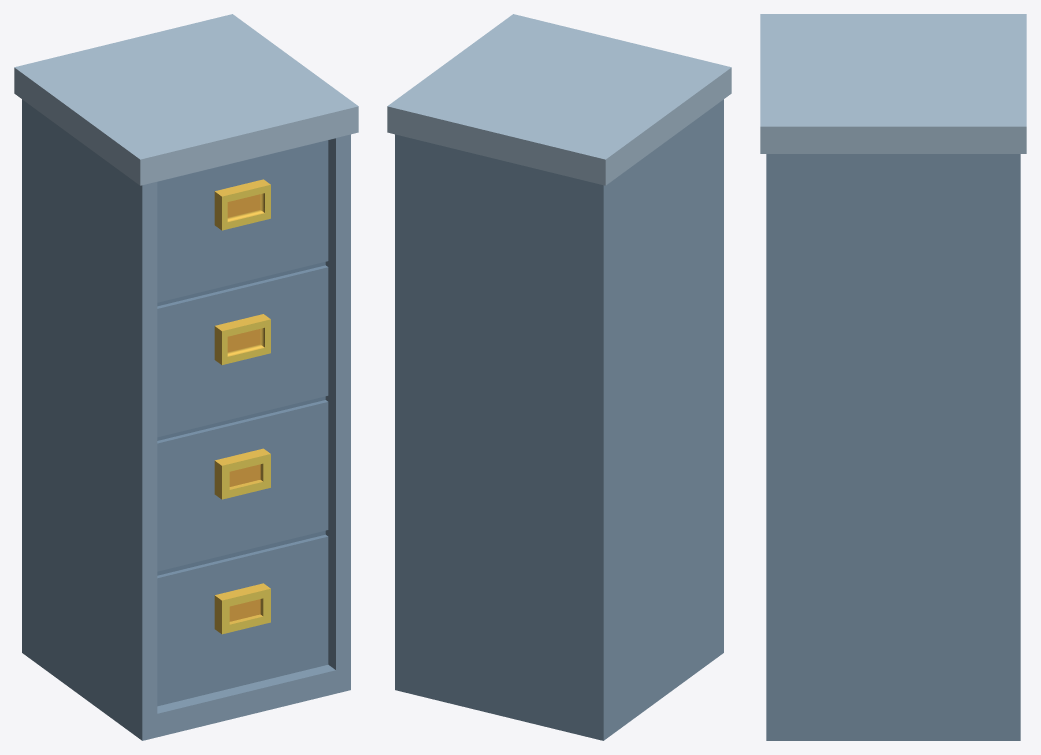
The model's file is drawer_furniture1.fbx.
3 views of the same model, side by side, from view 1: azimuth 30°, elevation 25°; view 2: azimuth 150°, elevation 25°; view 3: azimuth 270°, elevation 25° (orthographic). The views are drawn at different scales.
Parts seen in each view (by area): view 1: drawer_furniture1; view 2: drawer_furniture1; view 3: drawer_furniture1.
Part boxes in pixels (<box>): drawer_furniture1: <box>14,14,358,740</box>; drawer_furniture1: <box>387,14,731,740</box>; drawer_furniture1: <box>760,14,1026,740</box>.
Size of the model in its own units: 41.93 by 107 by 41.93.
